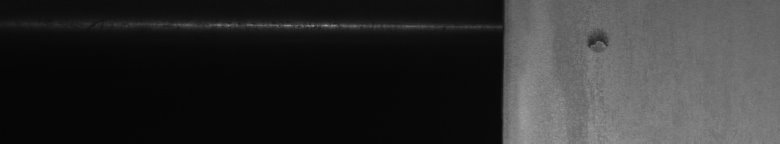fi: (582, 28, 612, 56)
